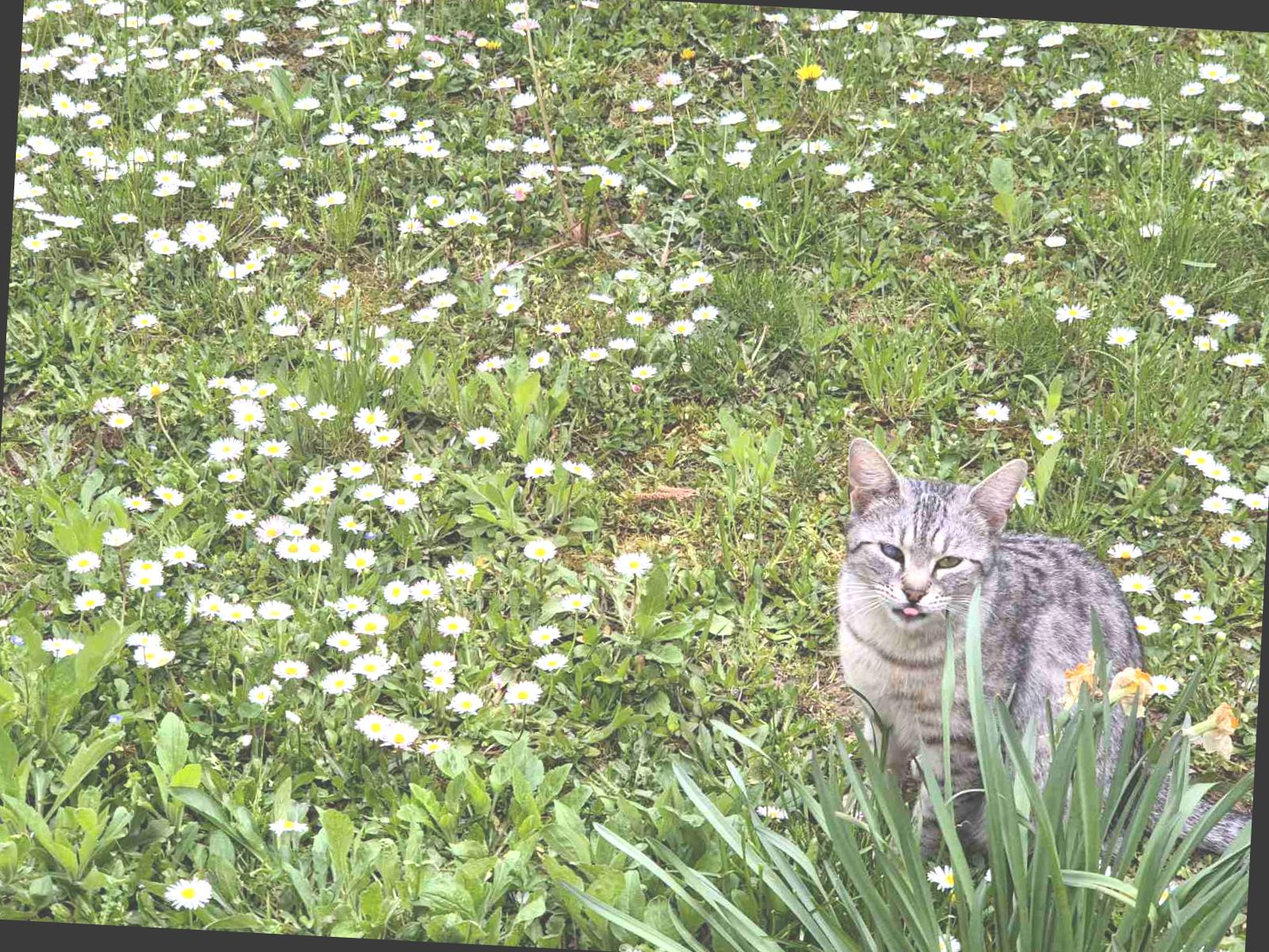macka: (824, 436, 1269, 927)
